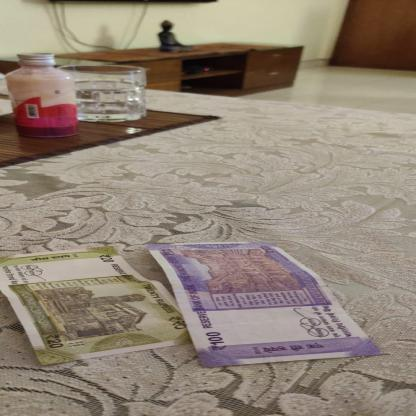New100Back: (147, 241, 381, 369)
New20Back: (0, 246, 193, 366)
